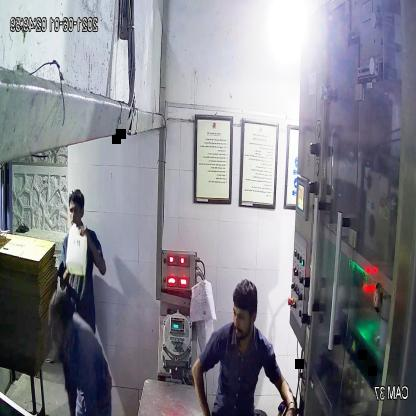no_goggles: (228, 306, 261, 328)
